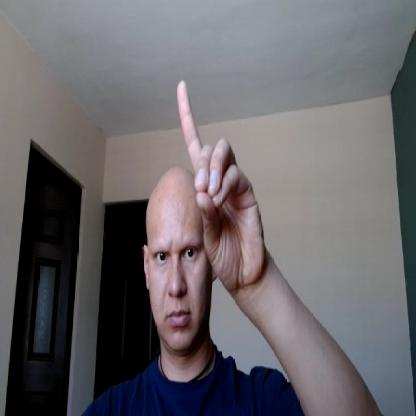D: (178, 79, 264, 286)
